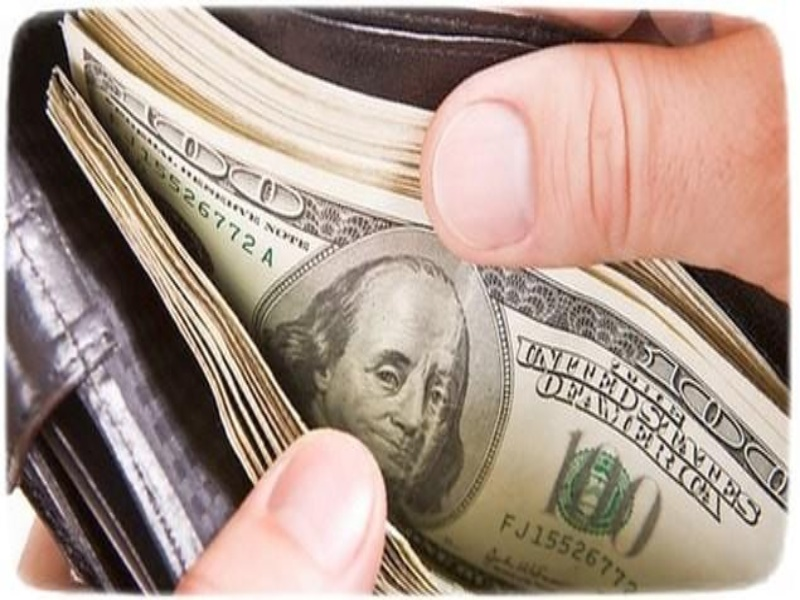cash: (46, 6, 794, 593)
